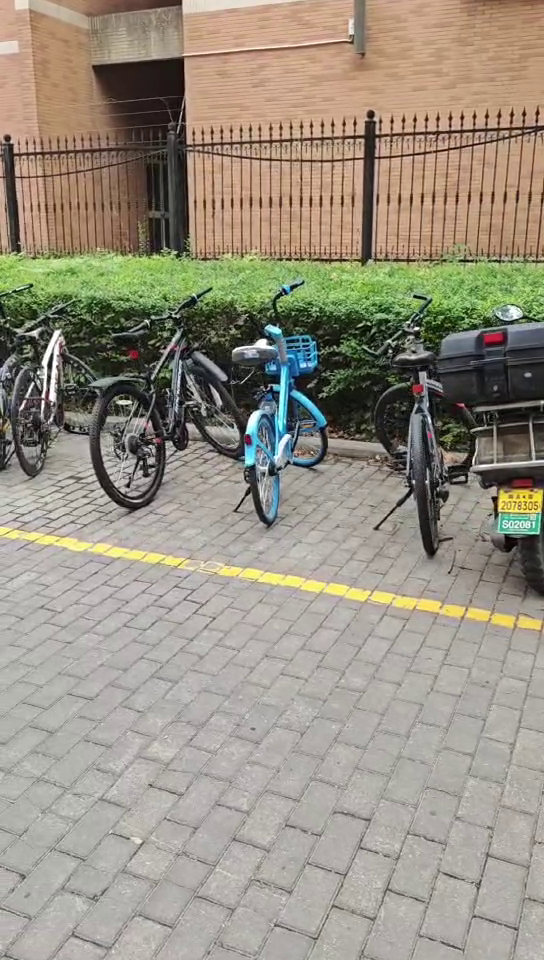others: (79, 286, 224, 521), (440, 284, 544, 610), (353, 276, 469, 568), (1, 285, 86, 452)
shared_bike_haluo: (224, 277, 336, 535)
